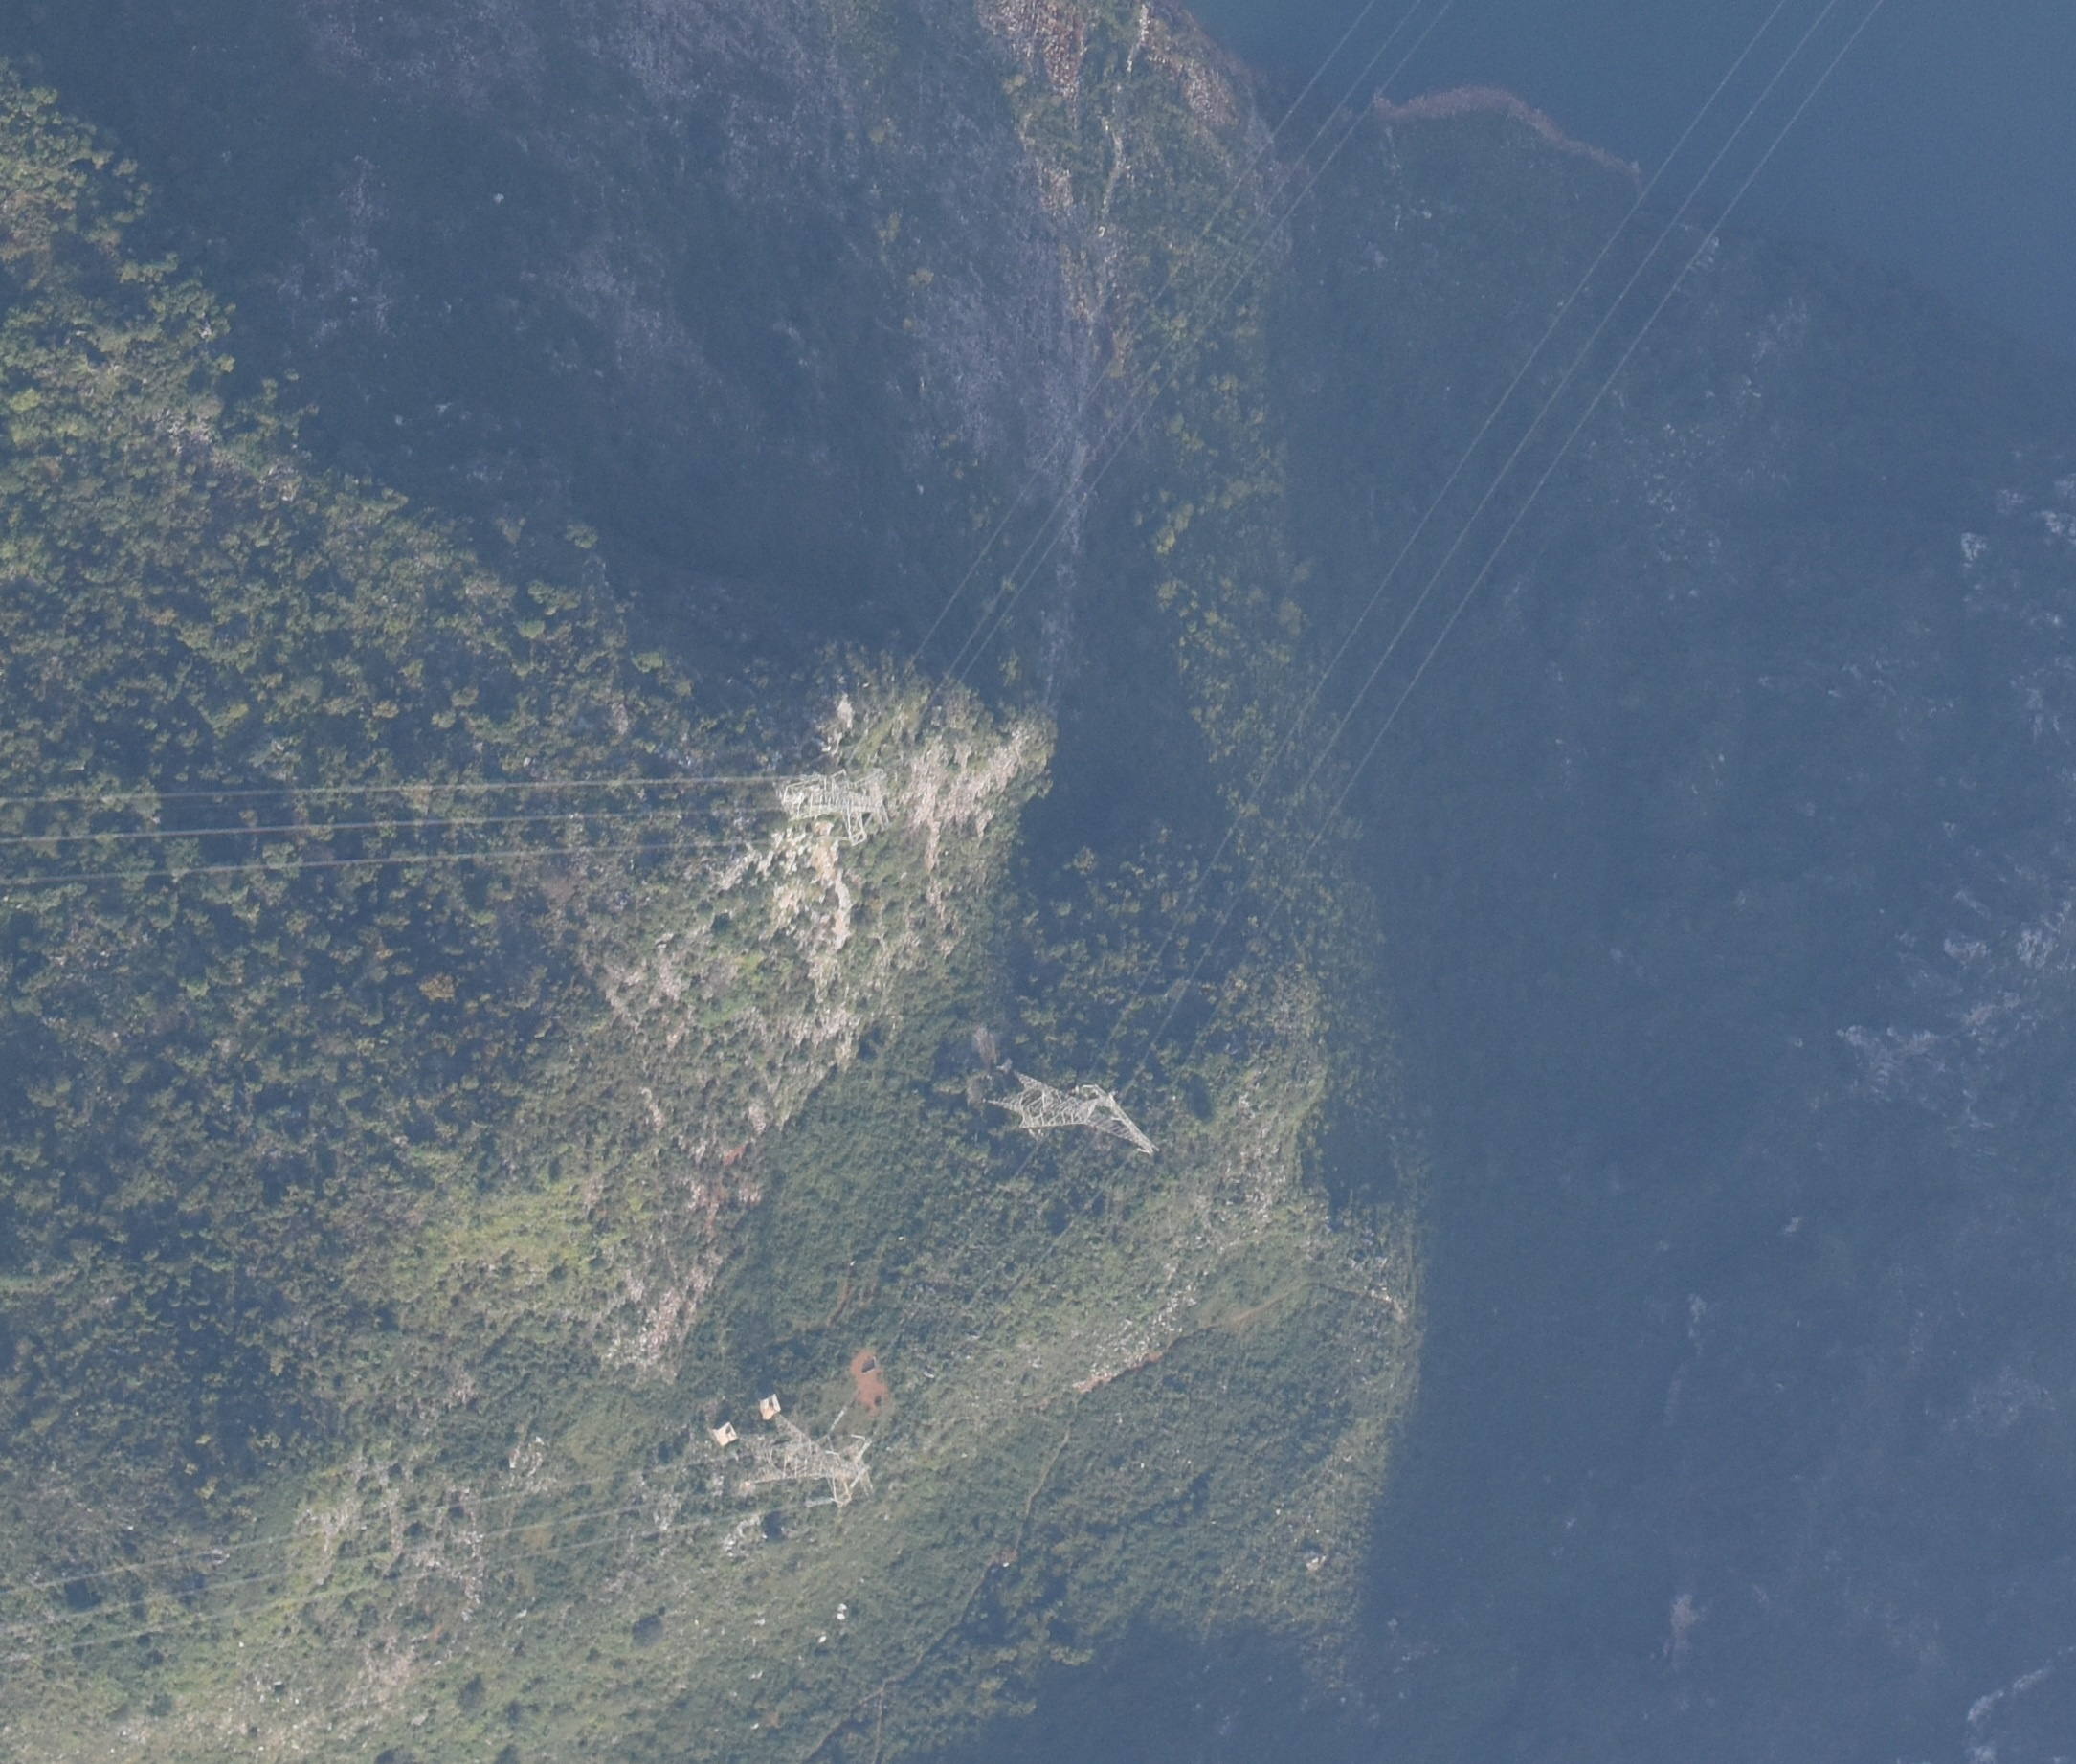cable-tower: (722, 1396, 874, 1513), (981, 1067, 1164, 1157), (781, 764, 896, 846)
